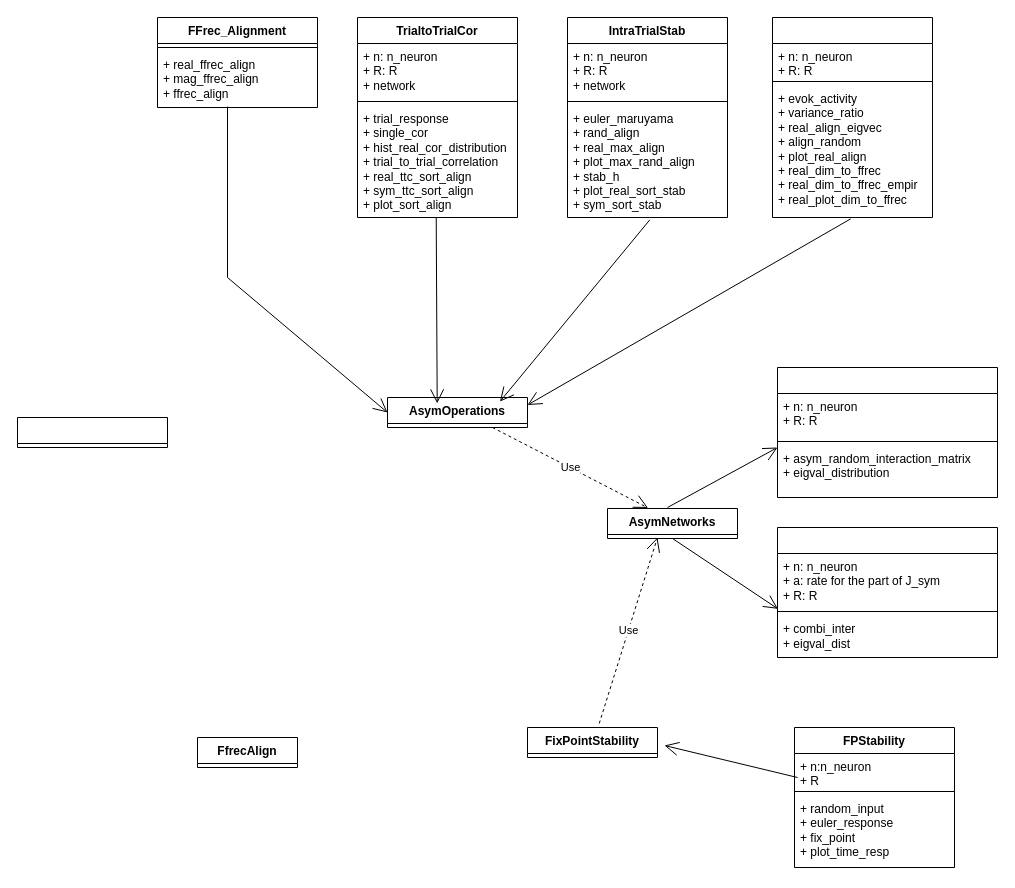
The diagram is 1015 pixels wide and 888 high, and some of its shapes have lost their labels. Here are the shapes that lost their labels. From the top down, the box of each, then its label:
(772, 16, 932, 218): Dimensionality
(16, 416, 168, 448): CompareOperation
(776, 366, 998, 498): AsymLinearRecurrent
(776, 526, 998, 658): CombiAsymNet
